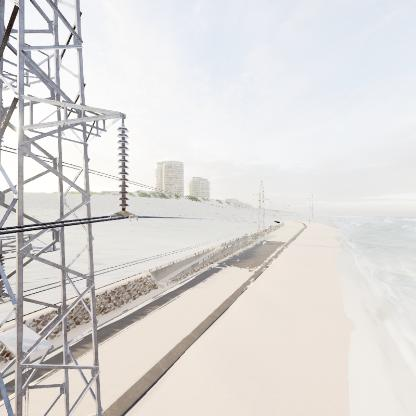insulator: (115, 124, 131, 214)
